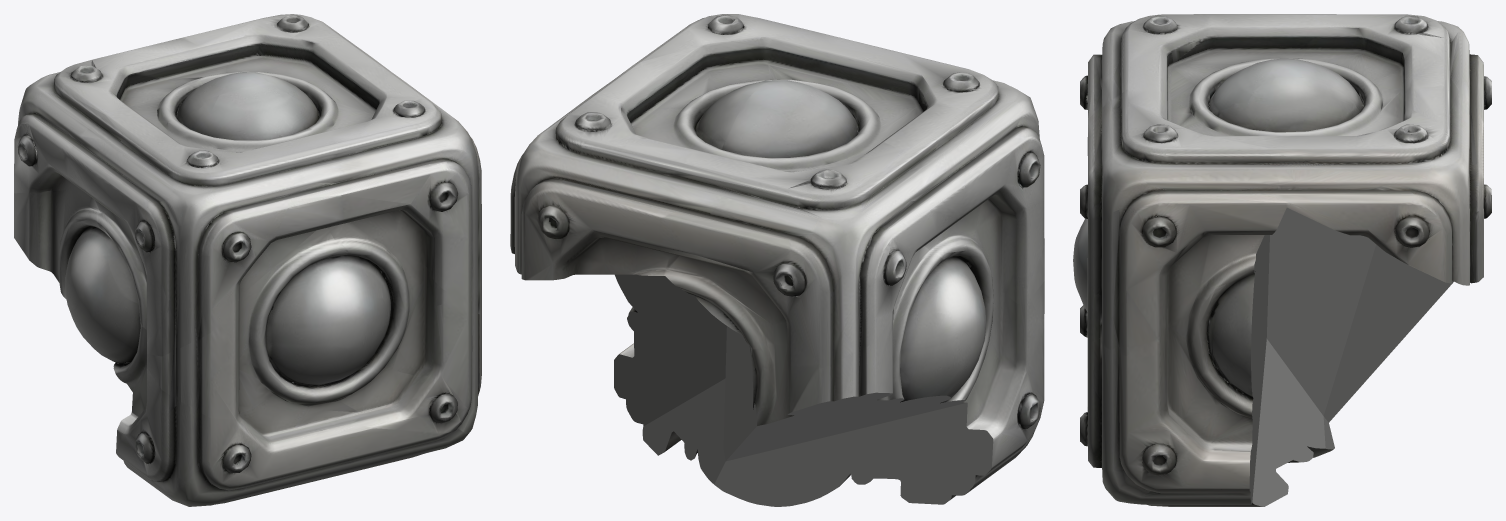
Rendered from kup_metal_parcali.glb.
3 views of the same model, side by side, from view 1: azimuth 30°, elevation 25°; view 2: azimuth 150°, elevation 25°; view 3: azimuth 270°, elevation 25° (orthographic). The views are drawn at different scales.
Visible parts, largest first — view 1: p01, p06, p05, p03, p07, p00, p04, p02; view 2: p07, p01, p02, p03, p00, p04, p05, p06; view 3: p05, p02, p04, p00, p01, p07, p03, p06.
Part boxes in pixels (x1,y1,x2,y2): p01: [68, 86, 341, 356]; p06: [147, 224, 460, 432]; p05: [299, 68, 481, 302]; p03: [116, 365, 467, 506]; p07: [14, 37, 272, 193]; p00: [14, 189, 146, 391]; p04: [328, 223, 481, 434]; p02: [186, 14, 394, 111]; p07: [658, 81, 937, 368]; p01: [765, 38, 1044, 303]; p02: [510, 62, 768, 280]; p03: [642, 319, 1044, 506]; p00: [723, 246, 993, 461]; p04: [614, 274, 726, 426]; p05: [621, 14, 843, 95]; p06: [992, 281, 1044, 320]; p05: [1080, 89, 1286, 355]; p02: [1247, 77, 1491, 285]; p04: [1081, 235, 1269, 504]; p00: [1266, 207, 1453, 422]; p01: [1080, 14, 1316, 155]; p07: [1266, 14, 1491, 124]; p03: [1080, 305, 1334, 506]; p06: [1073, 218, 1095, 467].
Bounding box in the file's own units: 0.965 × 0.9802 × 0.9629.
2 materials, 1 textured.
